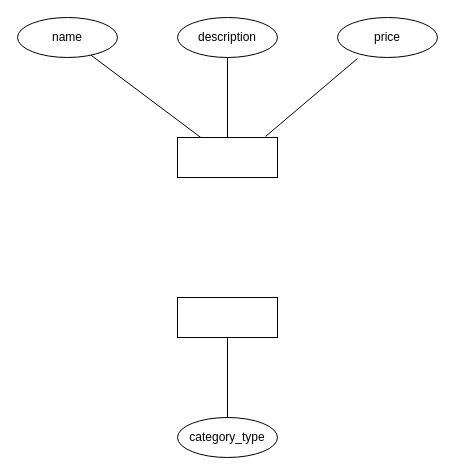
This 455x475 diagram has some shape labels left out. The shapes that lost their labels are listed below. From the top down, each one's centre as x and y in pixels, then its label:
At pixel 227 157: "Products".
At pixel 227 317: "Categories".
